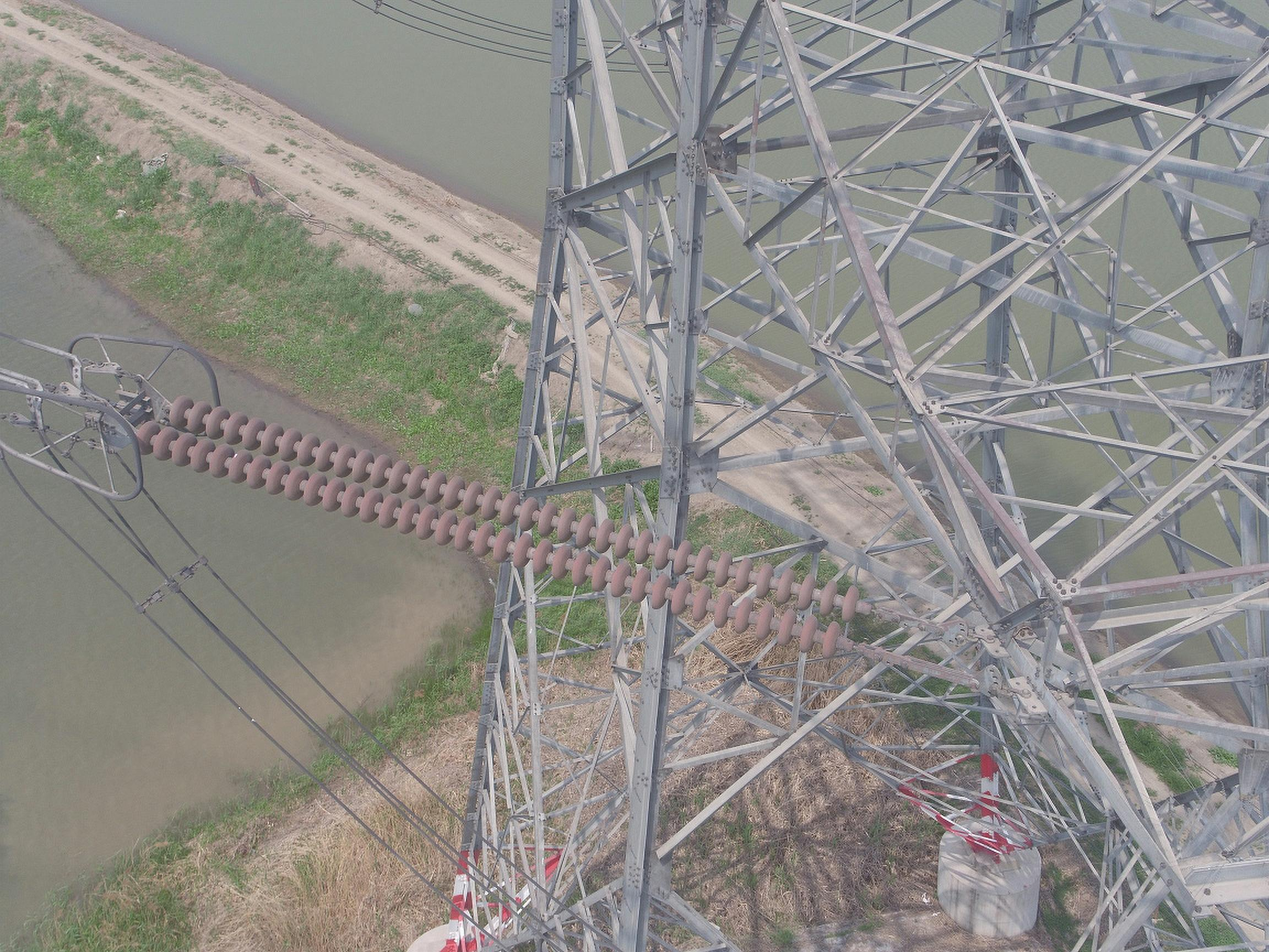insulator: (128, 392, 862, 662)
